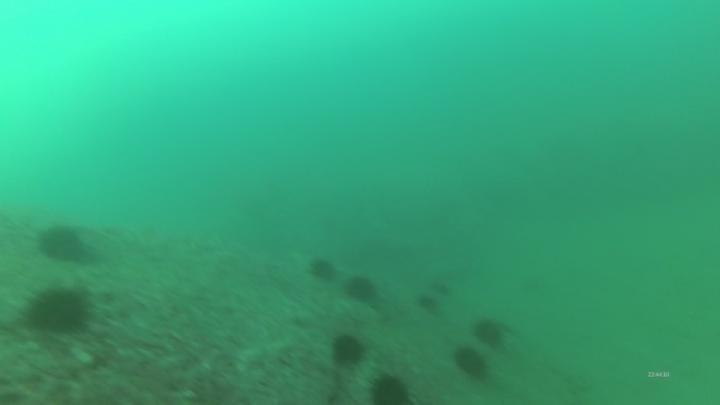echinus: (22, 283, 94, 337), (35, 222, 90, 267), (367, 371, 413, 404), (328, 331, 368, 368), (451, 344, 491, 381), (470, 315, 509, 350), (342, 272, 380, 305), (306, 255, 339, 284), (415, 291, 442, 315), (428, 277, 454, 298)
